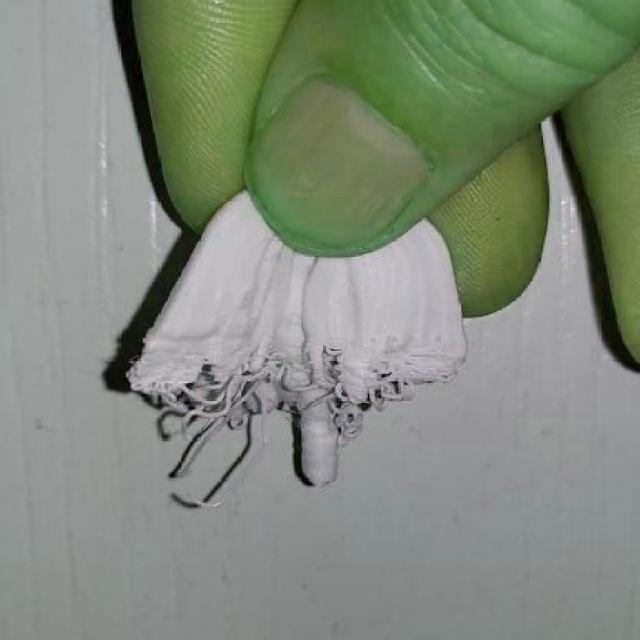spaghetti: (129, 342, 462, 510)
